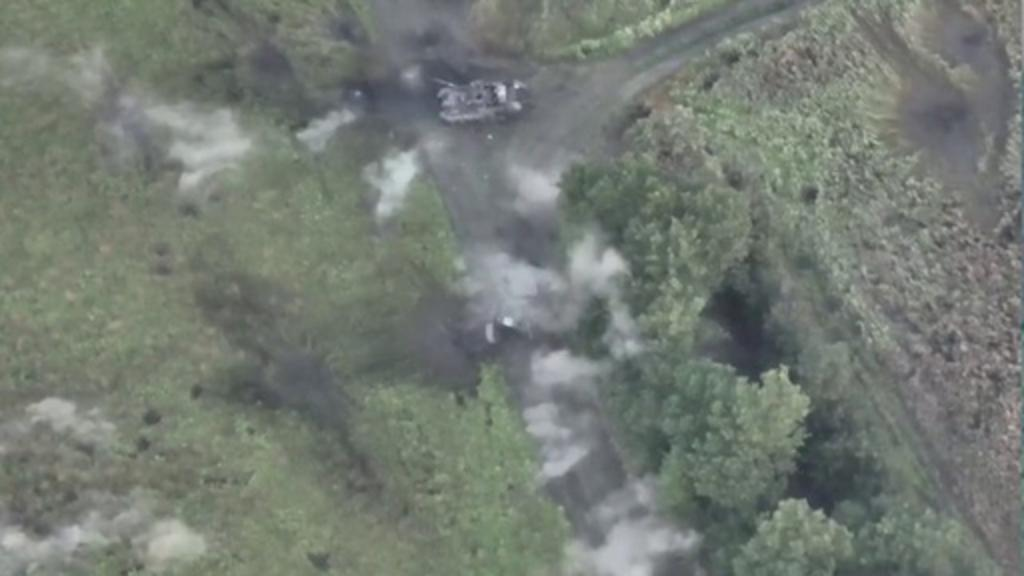TANK: (418, 66, 530, 128)
